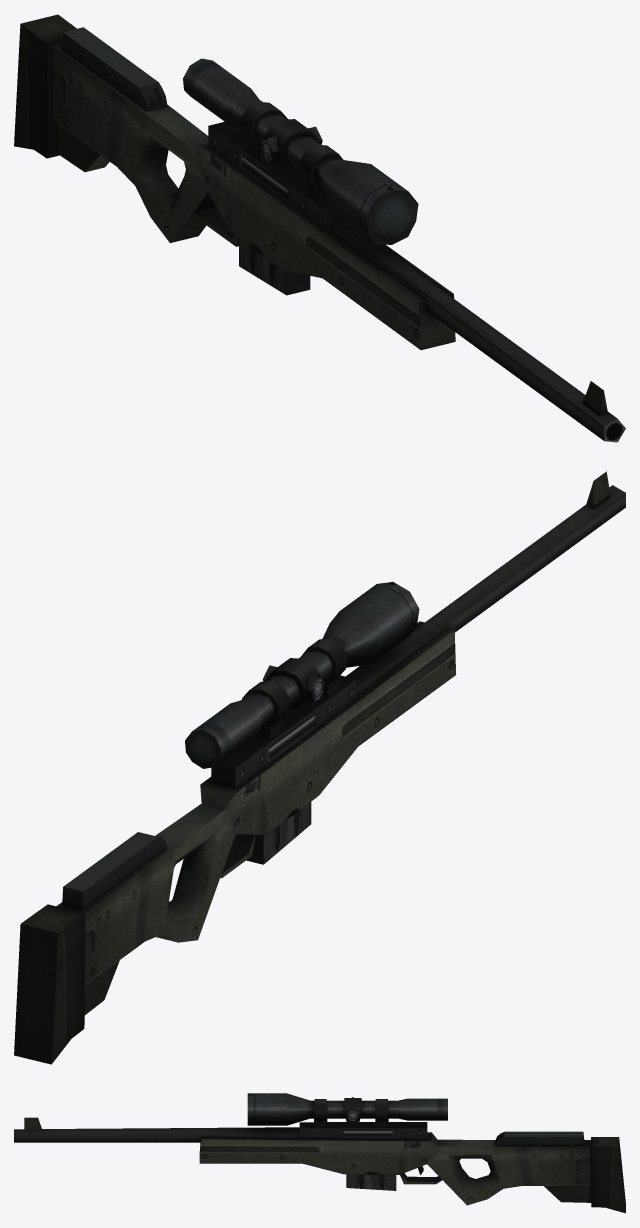
Rendered from awp.FBX.
3 views of the same model, one above another, from view 1: azimuth 30°, elevation 25°; view 2: azimuth 150°, elevation 25°; view 3: azimuth 270°, elevation 25° (orthographic). The views are drawn at different scales.
Visible parts, largest first — view 1: SMDImporter.Mesh.w_snip_awp; view 2: SMDImporter.Mesh.w_snip_awp; view 3: SMDImporter.Mesh.w_snip_awp.
Part boxes in pixels (x1,y1,x2,y2): SMDImporter.Mesh.w_snip_awp: [14, 14, 625, 442]; SMDImporter.Mesh.w_snip_awp: [14, 471, 625, 1064]; SMDImporter.Mesh.w_snip_awp: [14, 1093, 625, 1213].
Bounding box in the file's own units: 6.87 × 27.01 × 132.
